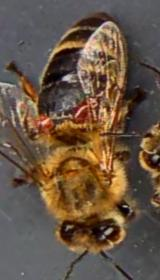varroa_mite: (64, 98, 93, 132), (32, 110, 58, 142)
